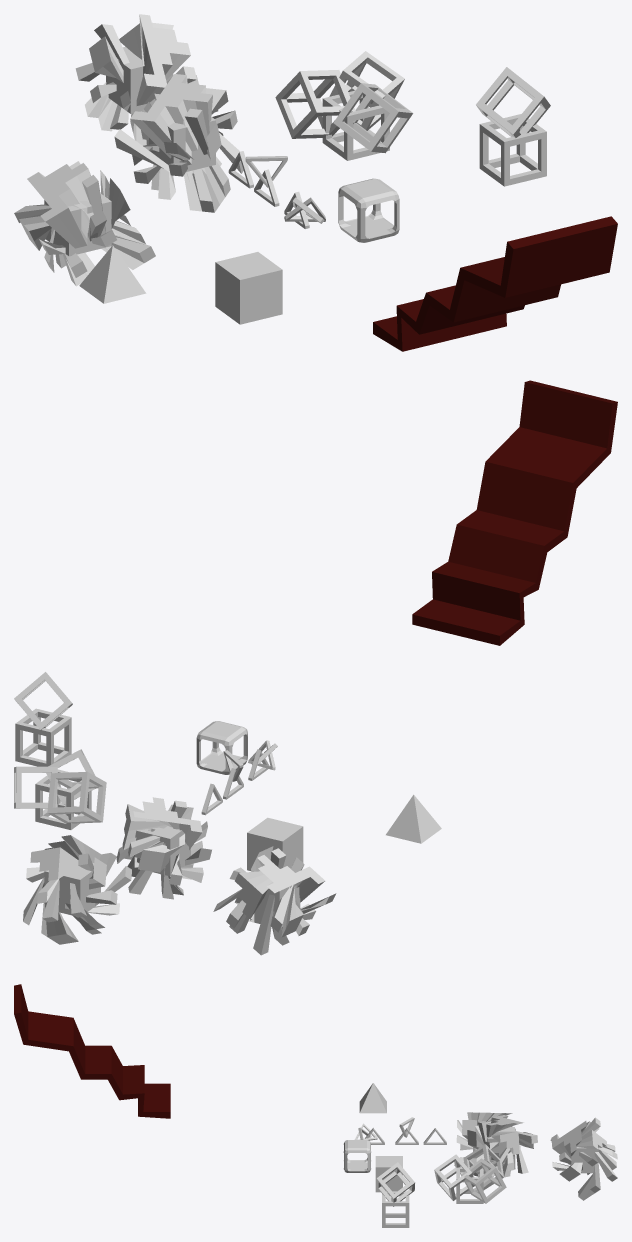
3 views of the same model, one above another, from view 1: azimuth 30°, elevation 25°; view 2: azimuth 150°, elevation 25°; view 3: azimuth 270°, elevation 25° (orthographic). The views are drawn at different scales.
Visible parts, largest first — view 1: Plane, Cube.007, Cube.010, Cube.009, Cube.008, Cube.006, Cube.012, Cube.004, Cube.011, Cube, Cube.001; view 2: Plane, Cube.008, Cube.010, Cube.007, Cube.009, Cube.006, Cube.012, Cube.004, Cube.011; view 3: Plane, Cube.008, Cube.009, Cube.007, Cube.006, Cube.010, Cube.004, Cube.012, Cube.011.
Part boxes in pixels (bbox=[...]): Plane: bbox=[373, 216, 617, 351]; Cube.007: bbox=[114, 74, 243, 212]; Cube.010: bbox=[14, 161, 155, 286]; Cube.009: bbox=[275, 51, 413, 160]; Cube.008: bbox=[75, 14, 198, 145]; Cube.006: bbox=[476, 67, 550, 186]; Cube.012: bbox=[215, 252, 282, 324]; Cube.004: bbox=[338, 178, 399, 242]; Cube.011: bbox=[79, 245, 146, 303]; Cube: bbox=[284, 191, 325, 228]; Cube.001: bbox=[245, 156, 287, 187]; Plane: bbox=[412, 380, 617, 645]; Cube.008: bbox=[23, 835, 131, 944]; Cube.010: bbox=[213, 846, 336, 955]; Cube.007: bbox=[116, 797, 211, 899]; Cube.009: bbox=[14, 749, 106, 829]; Cube.006: bbox=[14, 672, 72, 766]; Cube.012: bbox=[247, 817, 303, 870]; Cube.004: bbox=[196, 721, 247, 774]; Cube.011: bbox=[386, 794, 441, 843]; Plane: bbox=[14, 984, 170, 1118]; Cube.008: bbox=[550, 1117, 617, 1200]; Cube.009: bbox=[434, 1144, 506, 1203]; Cube.007: bbox=[467, 1115, 537, 1177]; Cube.006: bbox=[376, 1162, 415, 1227]; Cube.010: bbox=[454, 1112, 515, 1165]; Cube.004: bbox=[343, 1140, 371, 1172]; Cube.012: bbox=[375, 1156, 402, 1192]; Cube.011: bbox=[359, 1083, 386, 1113].
Size of the model in its own units: 2241 by 1512 by 4396.
